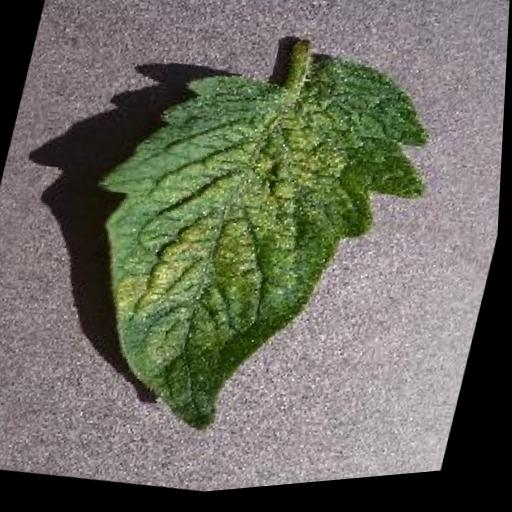Spider Mites: (44, 17, 455, 482)
